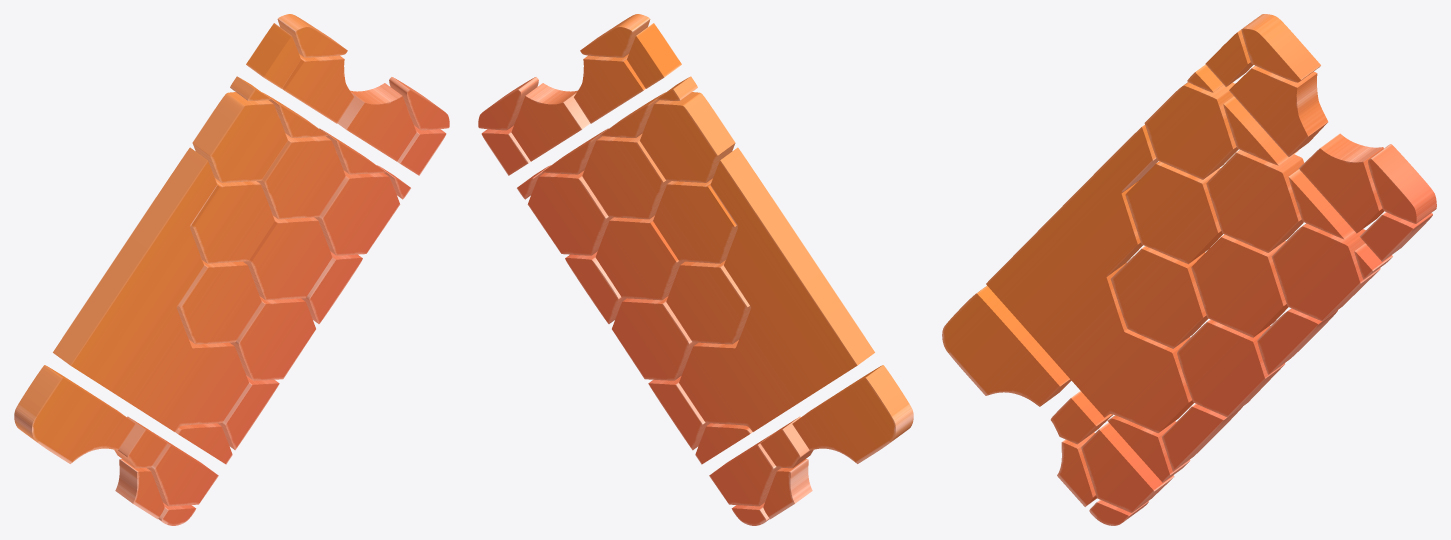
Rendered from BronzePass.glb.
3 renders of one model, left to right at view 1: azimuth 30°, elevation 25°; view 2: azimuth 150°, elevation 25°; view 3: azimuth 330°, elevation 25°, orthographic. The views are drawn at different scales.
Visible parts, largest first — view 1: Curve; view 2: Curve; view 3: Curve.
Boxes of the visible parts, left/top/right/bottom form: Curve: left=14, top=14, right=449, bottom=525; Curve: left=478, top=14, right=913, bottom=525; Curve: left=942, top=14, right=1436, bottom=525.
Size of the model in its own units: 3.2 by 3.42 by 0.2349.
Materials: 1 (1 with a texture image).
